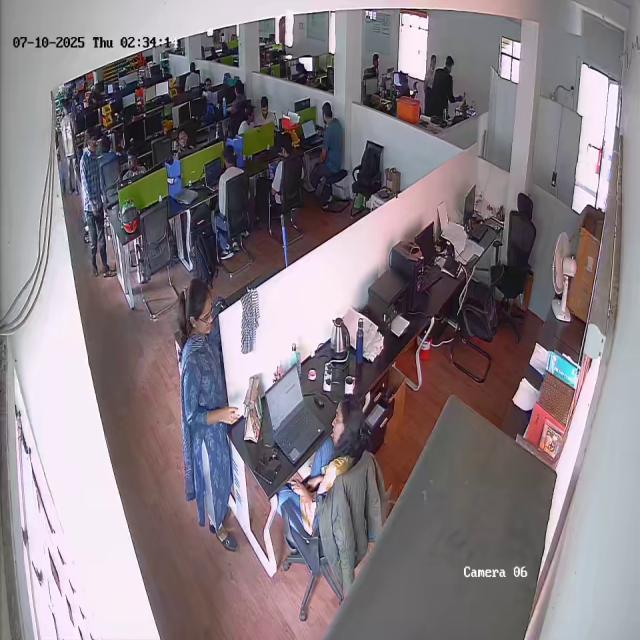person: (171, 278, 239, 553), (80, 129, 111, 280), (318, 101, 344, 172)
